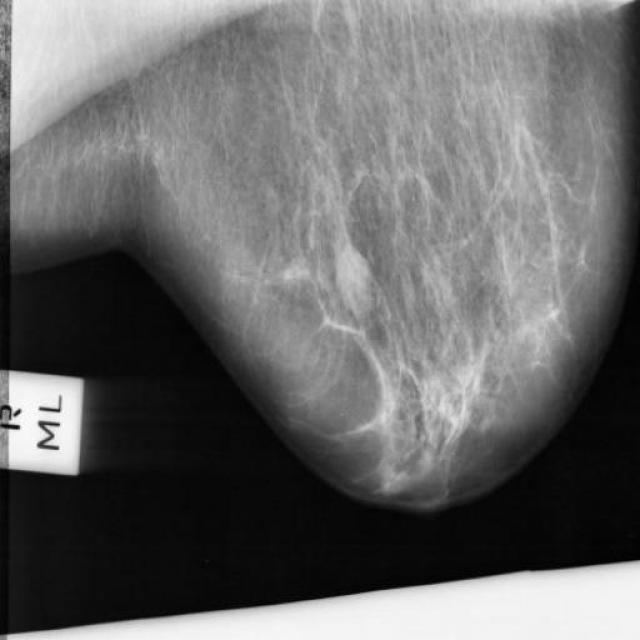cancer: (352, 358, 428, 452)
